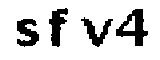4: (113, 7, 151, 50)
f: (48, 5, 69, 51)
s: (15, 17, 39, 47)
v: (79, 15, 113, 46)
